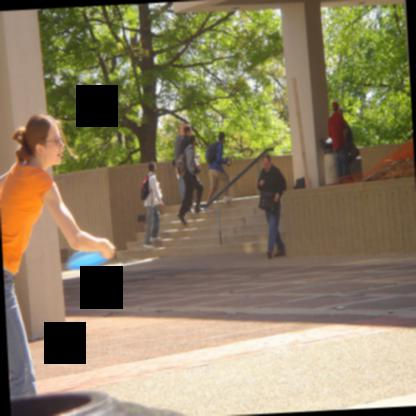backpack: (204, 142, 224, 165), (258, 189, 275, 211), (176, 149, 186, 178), (140, 175, 149, 200)
handbag: (258, 191, 277, 211)
